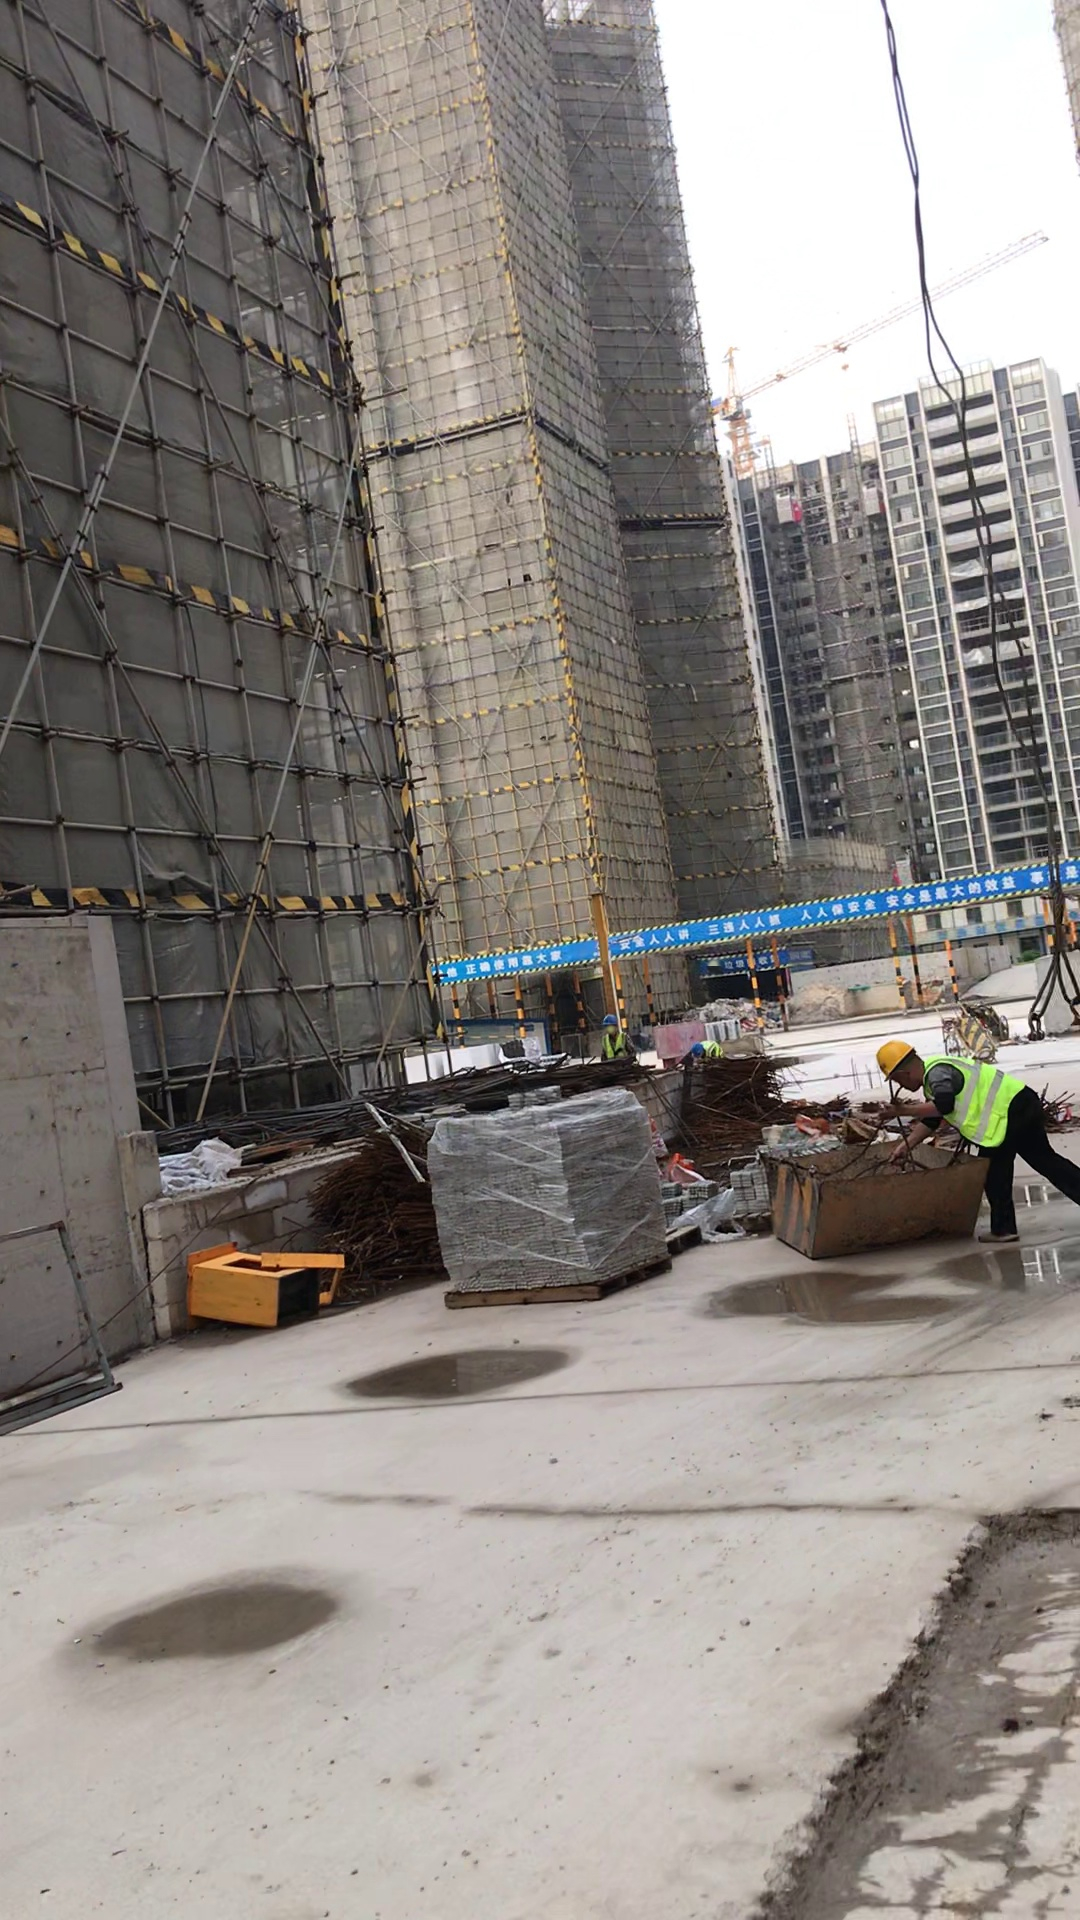ebox: (180, 1220, 361, 1328)
handcart: (936, 1007, 999, 1061), (968, 997, 1011, 1038)
helmet: (876, 1029, 913, 1080), (601, 1012, 618, 1024), (692, 1042, 705, 1056)
hopper: (747, 1132, 995, 1253)
person: (863, 1031, 1080, 1235), (594, 1012, 642, 1062), (689, 1038, 731, 1062)
slogan: (443, 868, 1080, 982)
vest: (920, 1059, 1024, 1145), (598, 1032, 633, 1057), (708, 1041, 726, 1058)
